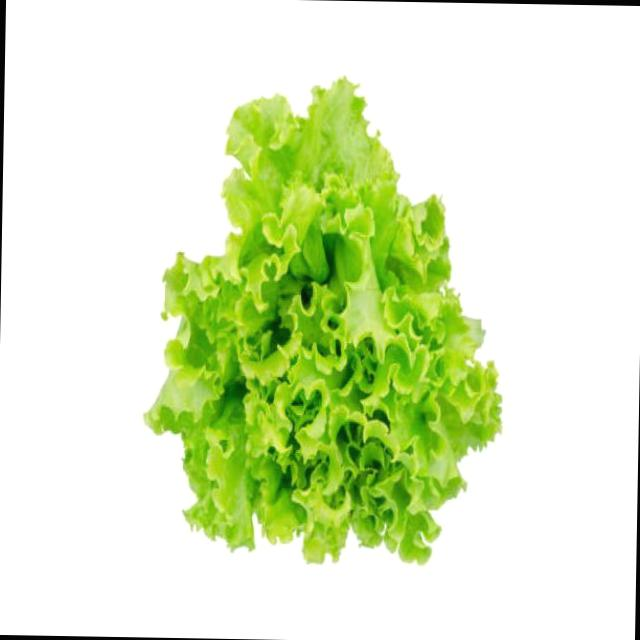Lettuce-Ready-to-Harvest: (146, 79, 500, 562)
